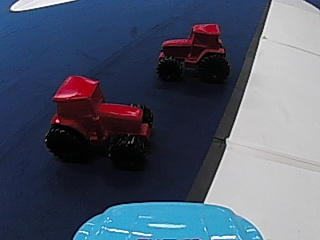tractor: (42, 70, 144, 164), (155, 21, 231, 85)
